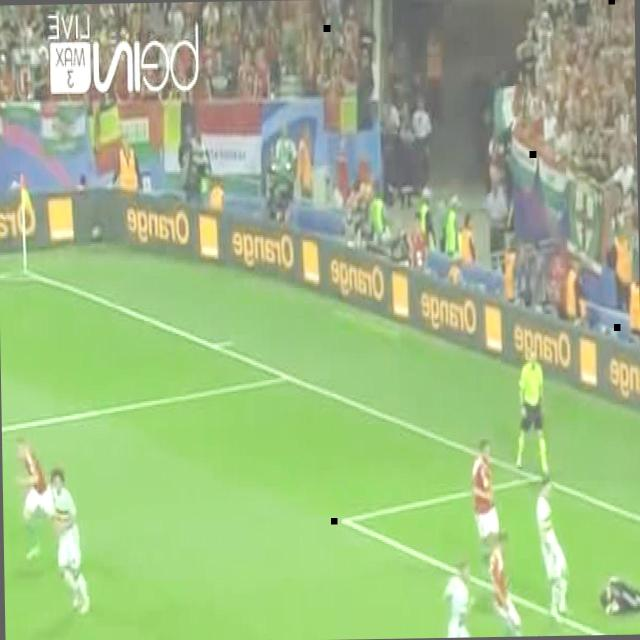player-white: (16, 437, 64, 562), (51, 469, 91, 615), (536, 476, 570, 622), (514, 346, 548, 474), (472, 439, 504, 574), (491, 535, 533, 637), (428, 558, 480, 638), (601, 575, 640, 614)
